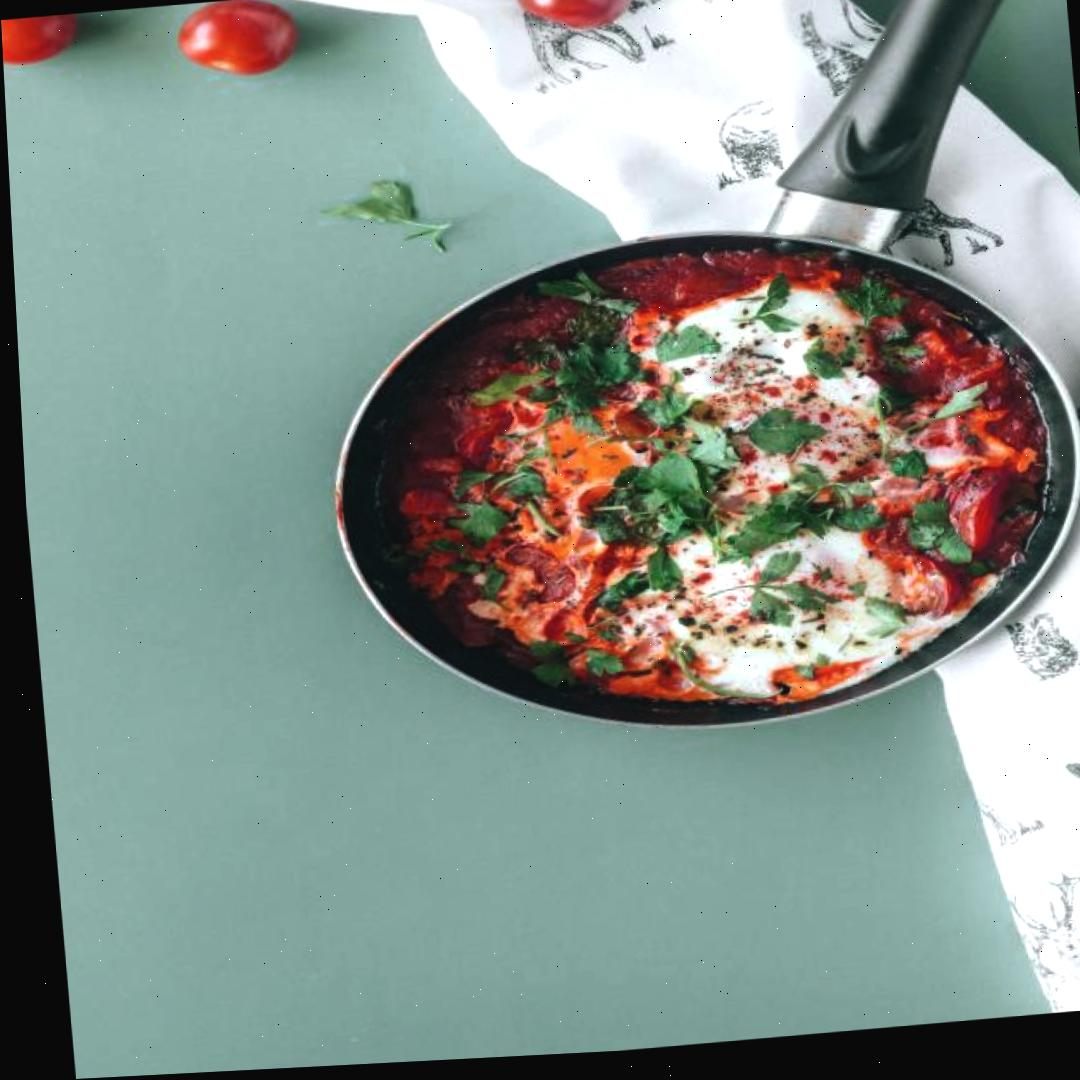matang: (173, 0, 300, 80), (1, 12, 80, 66), (510, 0, 637, 33)
